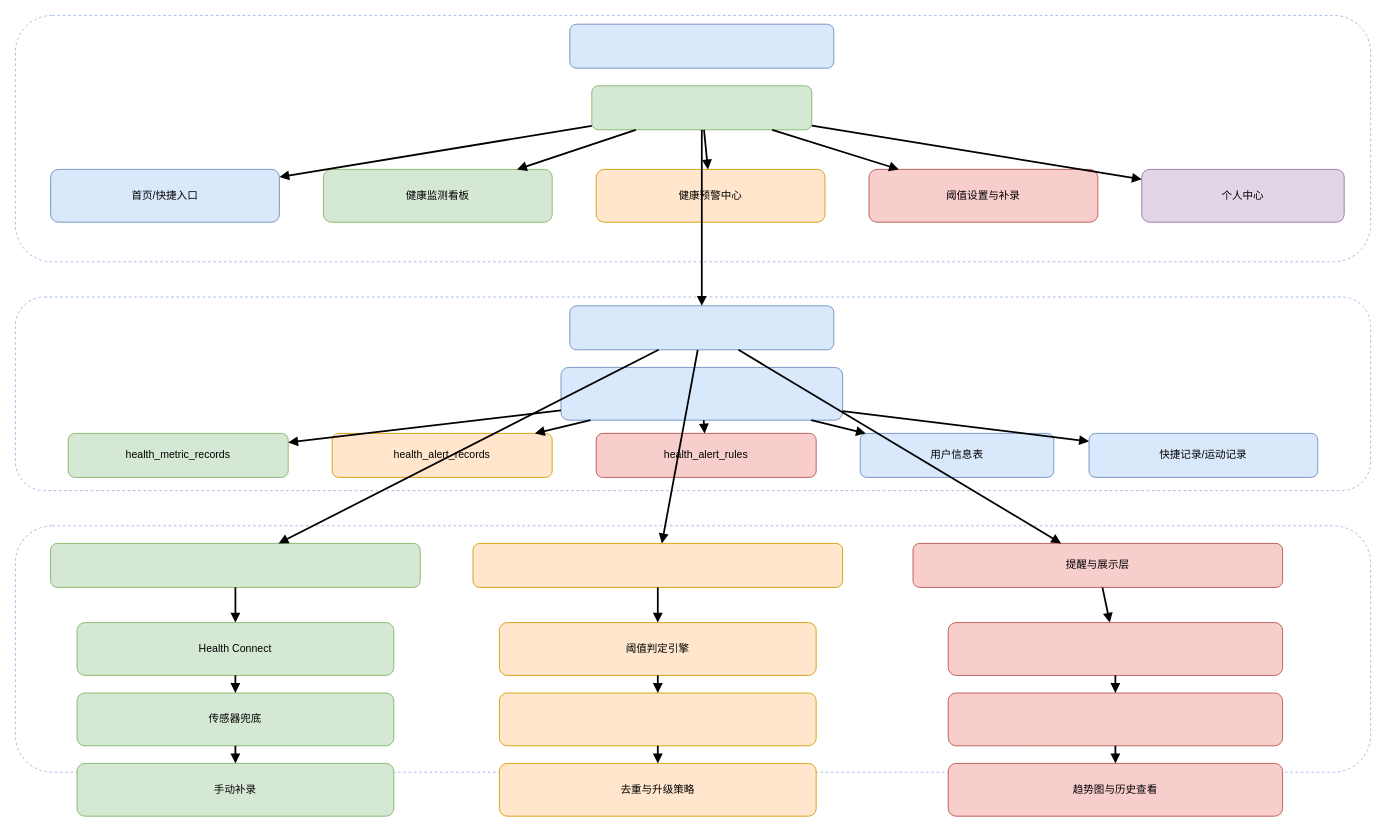
Some shapes in this 1386 by 832 pixel diagram are drawn without their labels. The shapes that lost their labels are listed below. From the top down, each one's centre as x and y in pixels, then its label:
At (701,45): "Android健康助手应用".
At (701,107): "主活动 + Fragment".
At (701,327): "本地数据与业务层".
At (701,393): "Room / SQLite / Repository".
At (235,565): "数据采集层".
At (657,565): "异常处理层".
At (1115,648): "通知提醒".
At (657,719): "告警记录入库".
At (1115,719): "语音播报".
